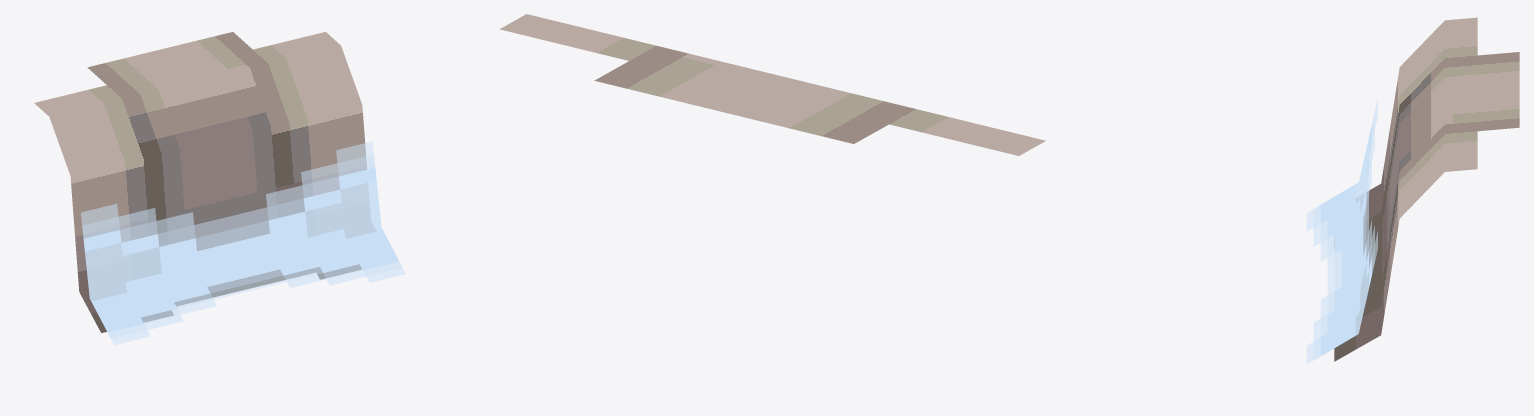
3 renders of one model, left to right at view 1: azimuth 30°, elevation 25°; view 2: azimuth 150°, elevation 25°; view 3: azimuth 270°, elevation 25°, orthographic. The views are drawn at different scales.
Size of the model in its own units: 1 by 0.7266 by 0.7695.
2 materials, 2 textured.
